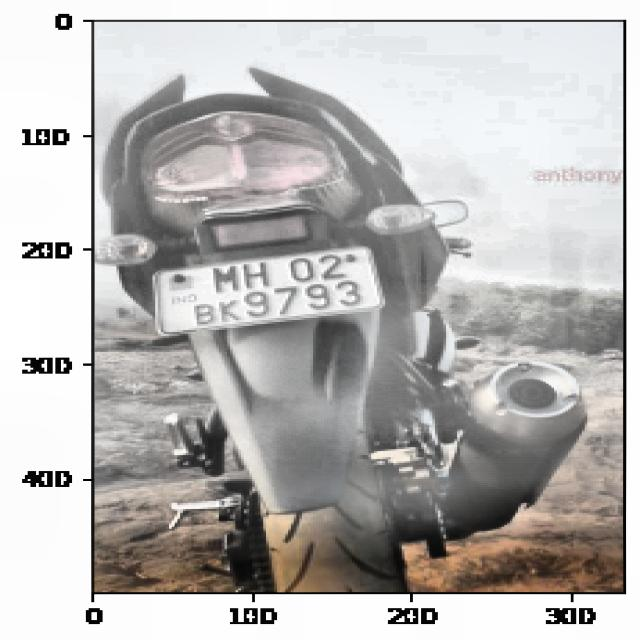license_plate: (186, 250, 368, 331)
